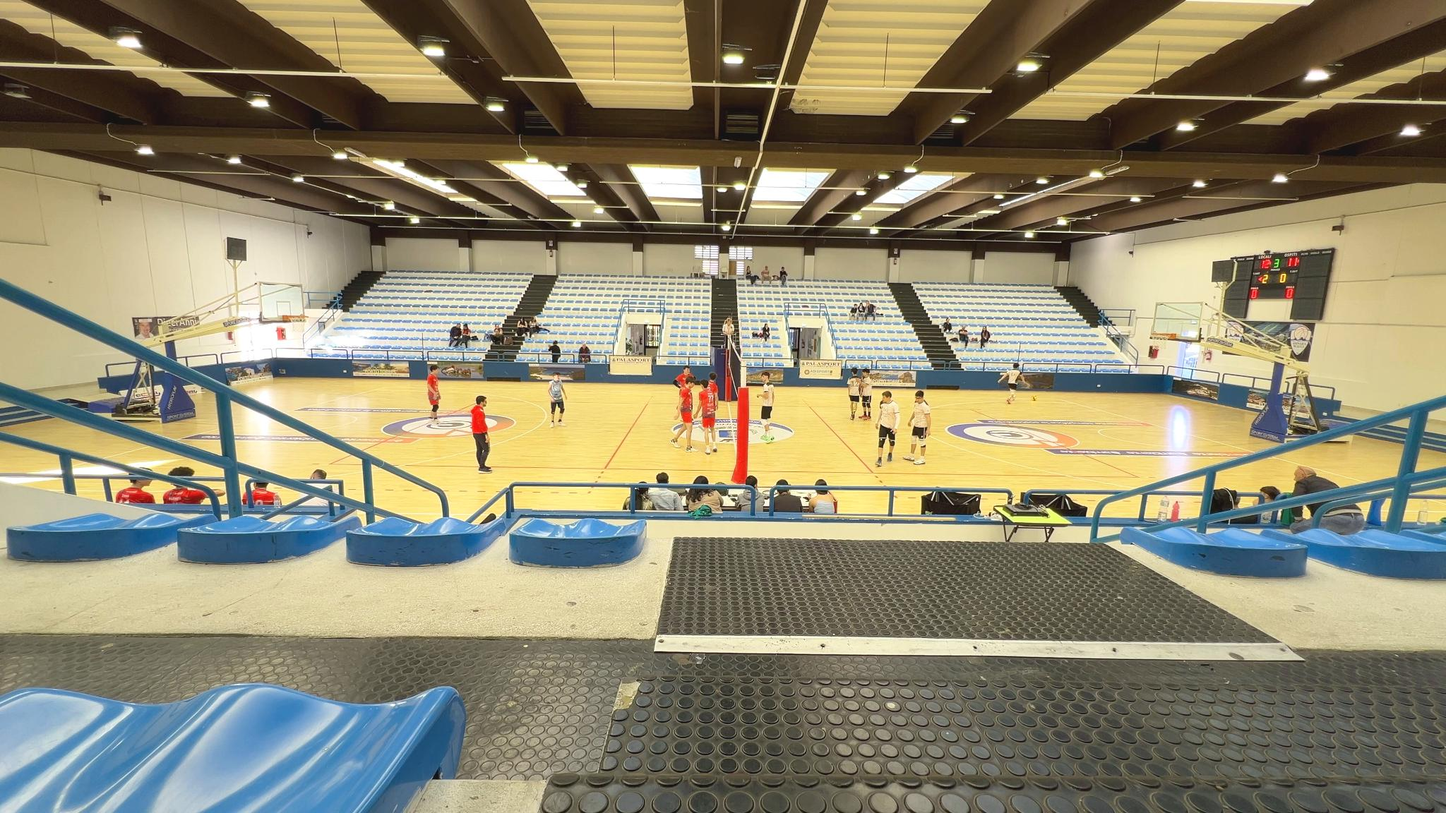volleyball court: (332, 400, 1142, 480)
